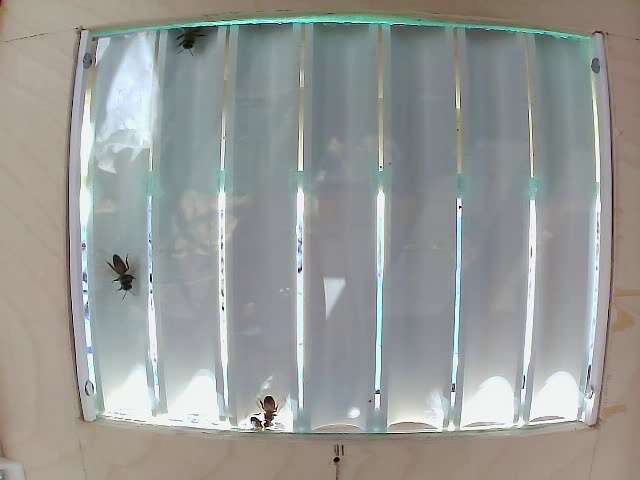bee: (104, 246, 144, 294)
